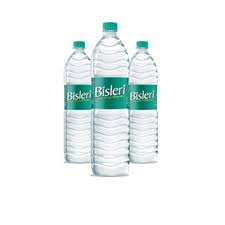Bisleri: (91, 76, 131, 110), (128, 86, 155, 111), (62, 89, 91, 104)
plastic: (93, 26, 134, 174), (128, 40, 162, 165), (69, 42, 91, 165)
